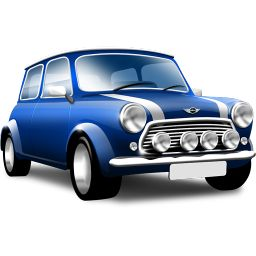car: (2, 50, 254, 201)
